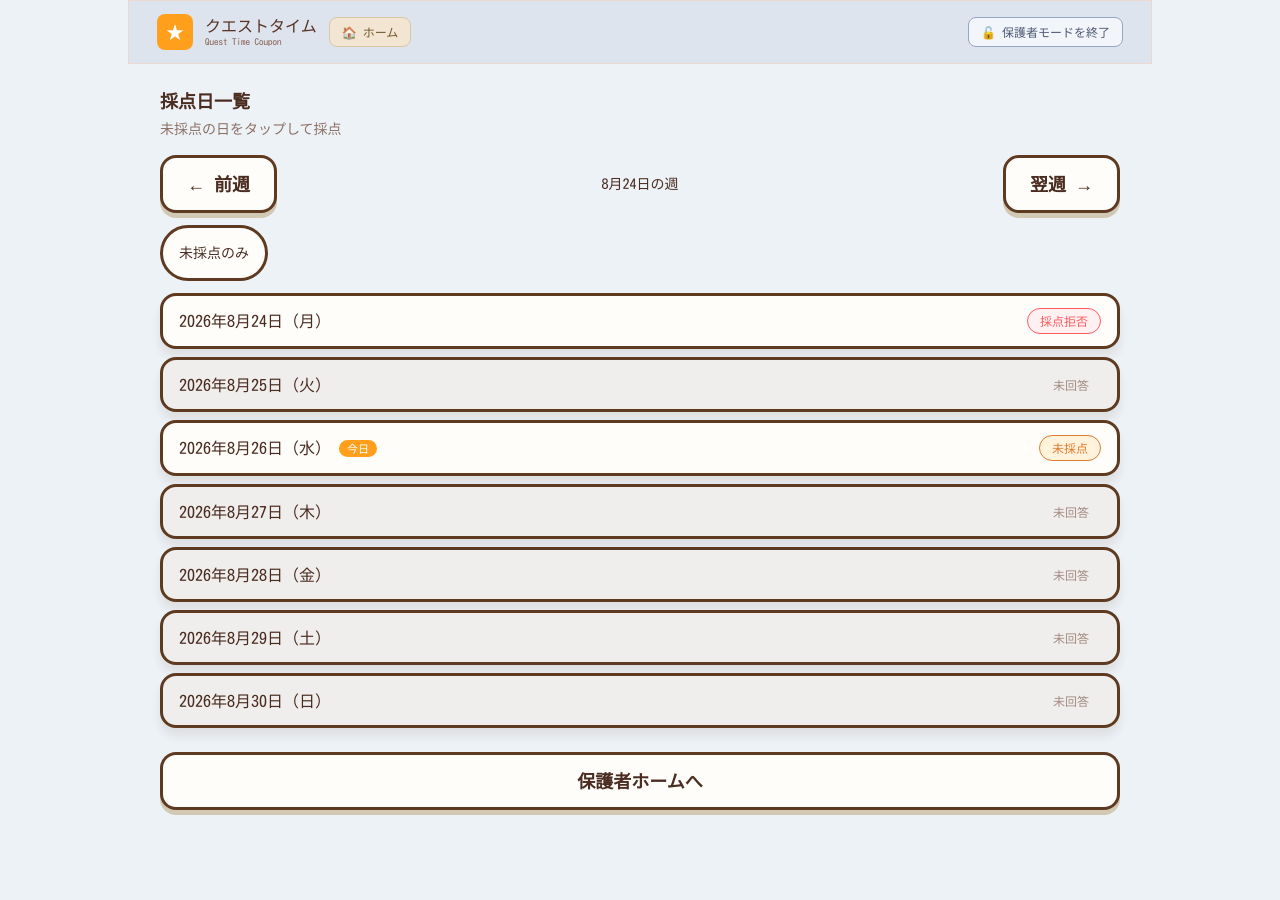
Test case: GradeListPage Figma 寄せ (#76) › 未採点のみフィルタは採点拒否日を出さない
Expected: the button with test id "grade-row-2026-08-24" is shown, x1=160 y1=293 x2=1120 y2=349
What coordinates should you click on to do the following:
click the button with test id "ungraded-only-chip"
I would click on:
 (214, 253)
Its box is x1=160 y1=225 x2=268 y2=281.
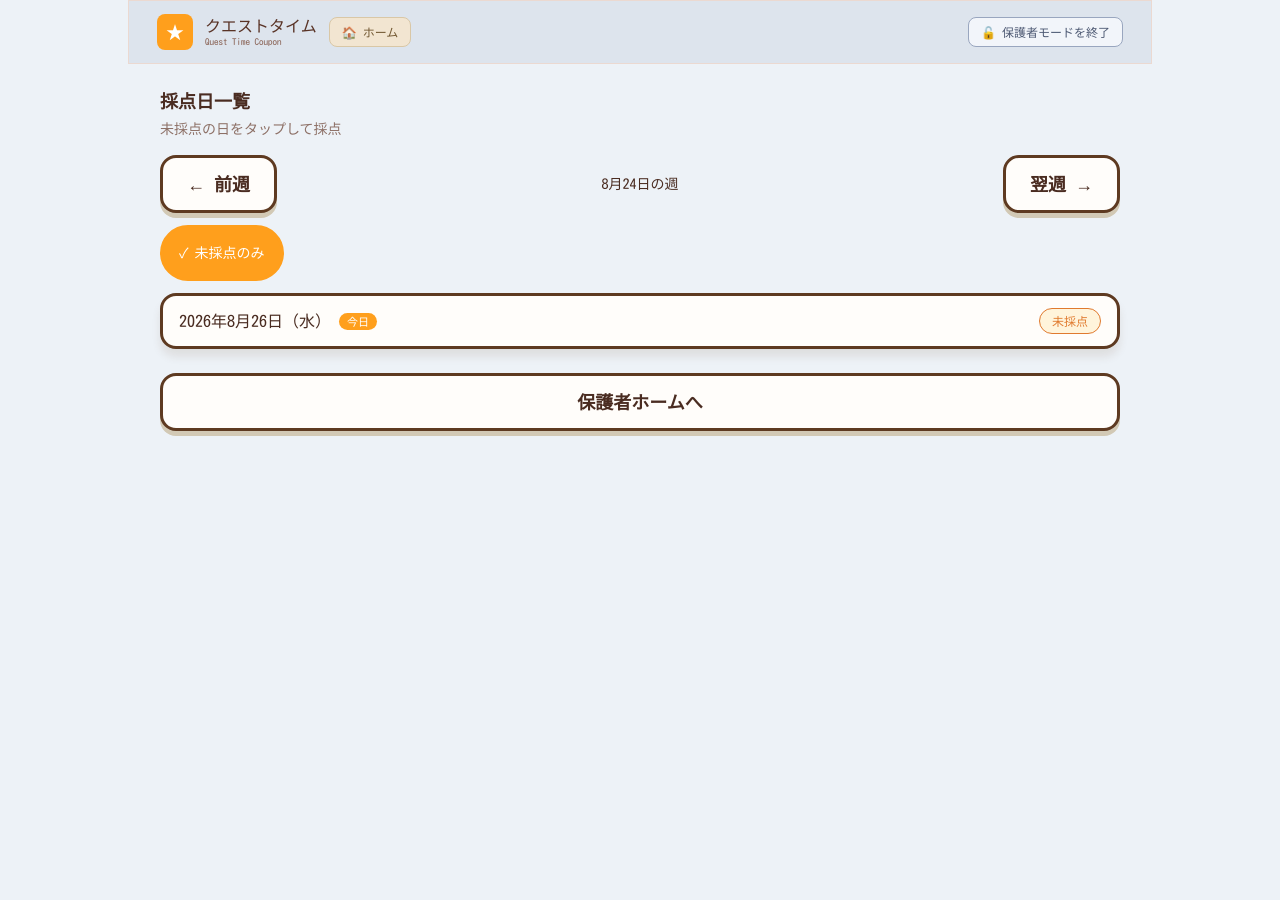
Expected: the button "2026年8月26日（水） 今日 未採点" is shown, x1=160 y1=293 x2=1120 y2=349
Expected: the button with test id "grade-row-2026-08-24" is gone
